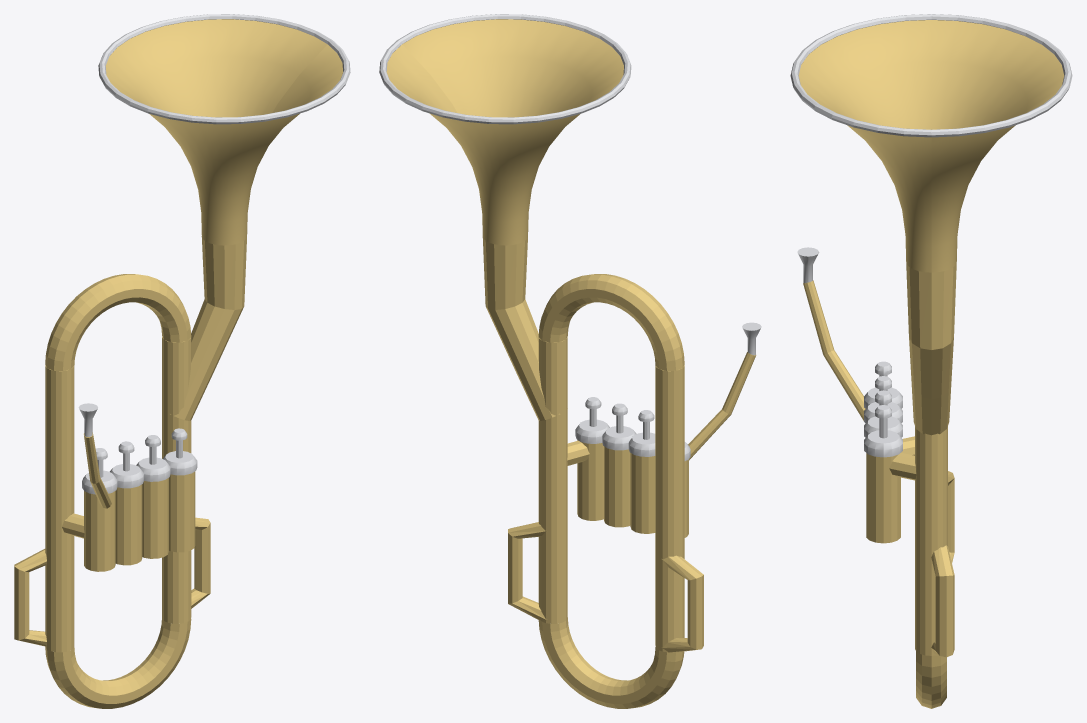
File: orchestra-and-band-instruments-tuba-f04543e6__39296.glb
The picture shows the model from 3 angles, left to right: view 1: azimuth 30°, elevation 25°; view 2: azimuth 150°, elevation 25°; view 3: azimuth 270°, elevation 25°; orthographic projection. The views are drawn at different scales.
Visible parts, largest first — view 1: tuba; view 2: tuba; view 3: tuba.
Boxes of the visible parts, left/top/right/bottom form: tuba: left=14, top=14, right=350, bottom=708; tuba: left=379, top=14, right=761, bottom=708; tuba: left=790, top=14, right=1072, bottom=708.
Bounding box in the file's own units: 0.5887 × 1.11 × 0.412.
